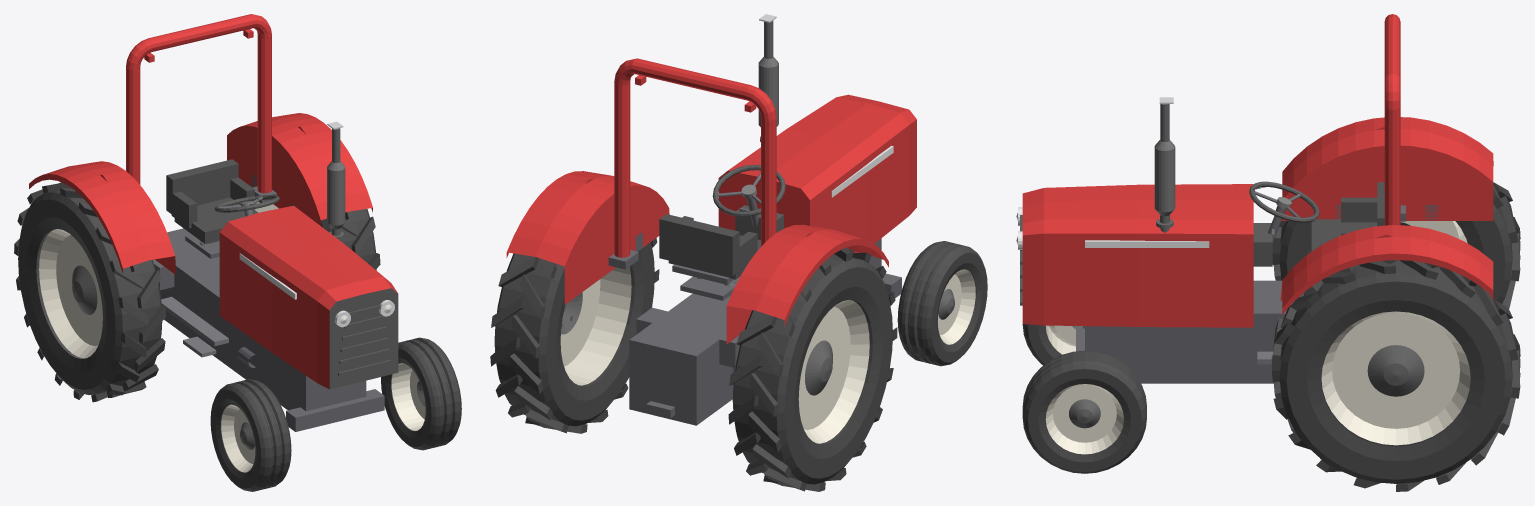
3 renders of one model, left to right at view 1: azimuth 30°, elevation 25°; view 2: azimuth 150°, elevation 25°; view 3: azimuth 270°, elevation 25°, orthographic. The views are drawn at different scales.
Parts seen in each view (by area): view 1: EngineHood, RearWheel_1, Chassis, RearFender_0, FrontWheel_1, FrontWheel_0, RearFender_1, RollBar, OperatorSeat, RearWheel_0, ExhaustStack, SteeringAssembly; view 2: RearWheel_1, RearWheel_0, EngineHood, Chassis, RearFender_0, FrontWheel_1, RollBar, RearFender_1, OperatorSeat, SteeringAssembly, ExhaustStack; view 3: RearWheel_0, EngineHood, RearFender_1, FrontWheel_0, Chassis, RearFender_0, RearWheel_1, RollBar, SteeringAssembly, OperatorSeat, ExhaustStack, FrontWheel_1.
Boxes of the visible parts, bbox=[...] form: EngineHood: bbox=[219, 205, 398, 389]; RearWheel_1: bbox=[14, 182, 166, 402]; Chassis: bbox=[153, 228, 384, 431]; RearFender_0: bbox=[227, 113, 372, 225]; FrontWheel_1: bbox=[210, 379, 291, 491]; FrontWheel_0: bbox=[381, 337, 461, 450]; RearFender_1: bbox=[29, 161, 175, 274]; RollBar: bbox=[126, 14, 276, 202]; OperatorSeat: bbox=[166, 159, 258, 258]; RearWheel_0: bbox=[255, 201, 380, 270]; ExhaustStack: bbox=[327, 121, 345, 240]; SteeringAssembly: bbox=[214, 192, 279, 216]; RearWheel_1: bbox=[728, 248, 897, 491]; RearWheel_0: bbox=[490, 238, 659, 433]; EngineHood: bbox=[718, 94, 916, 252]; Chassis: bbox=[629, 238, 901, 425]; RearFender_0: bbox=[506, 171, 669, 304]; FrontWheel_1: bbox=[897, 241, 987, 366]; RollBar: bbox=[608, 58, 776, 269]; RearFender_1: bbox=[726, 224, 888, 343]; OperatorSeat: bbox=[659, 214, 760, 300]; SteeringAssembly: bbox=[712, 165, 785, 240]; ExhaustStack: bbox=[758, 14, 778, 141]; RearWheel_0: bbox=[1271, 260, 1520, 491]; EngineHood: bbox=[1016, 184, 1253, 327]; RearFender_1: bbox=[1281, 117, 1493, 220]; FrontWheel_0: bbox=[1022, 350, 1146, 473]; Chassis: bbox=[1076, 280, 1286, 383]; RearFender_0: bbox=[1280, 225, 1493, 314]; RearWheel_1: bbox=[1272, 182, 1520, 308]; RollBar: bbox=[1384, 14, 1405, 225]; SteeringAssembly: bbox=[1249, 181, 1319, 266]; OperatorSeat: bbox=[1311, 182, 1384, 251]; ExhaustStack: bbox=[1154, 97, 1175, 232]; FrontWheel_1: bbox=[1022, 324, 1084, 365].
Size of the model in its own units: 1.9 by 2.35 by 2.83.
